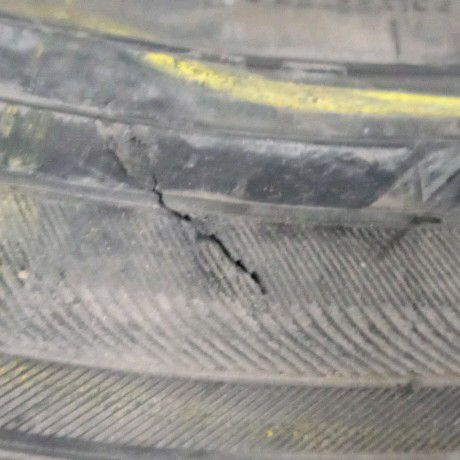cut: (151, 176, 272, 299)
